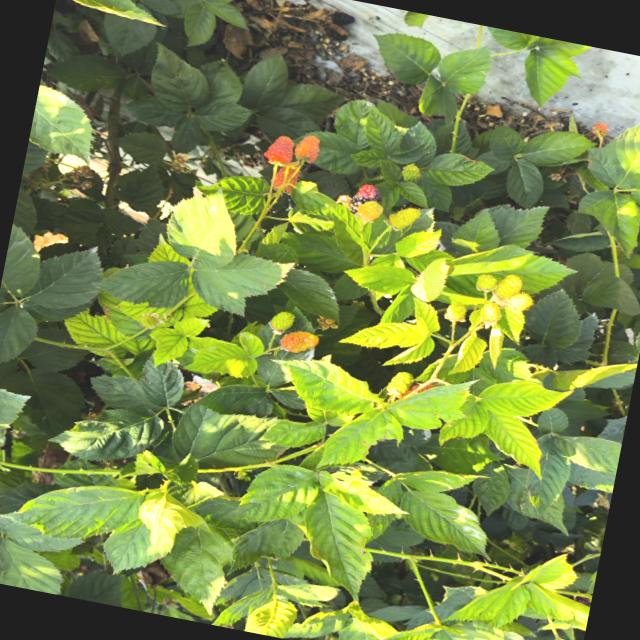marron: (348, 185, 382, 213)
naranja: (264, 136, 293, 165), (281, 331, 319, 353), (273, 167, 300, 194), (295, 136, 320, 163)
verde: (387, 207, 421, 231), (495, 275, 522, 300), (387, 372, 413, 395), (357, 201, 383, 223), (481, 302, 502, 325), (508, 293, 533, 312), (270, 312, 295, 331), (444, 302, 467, 322), (476, 274, 499, 291), (403, 164, 421, 182)
